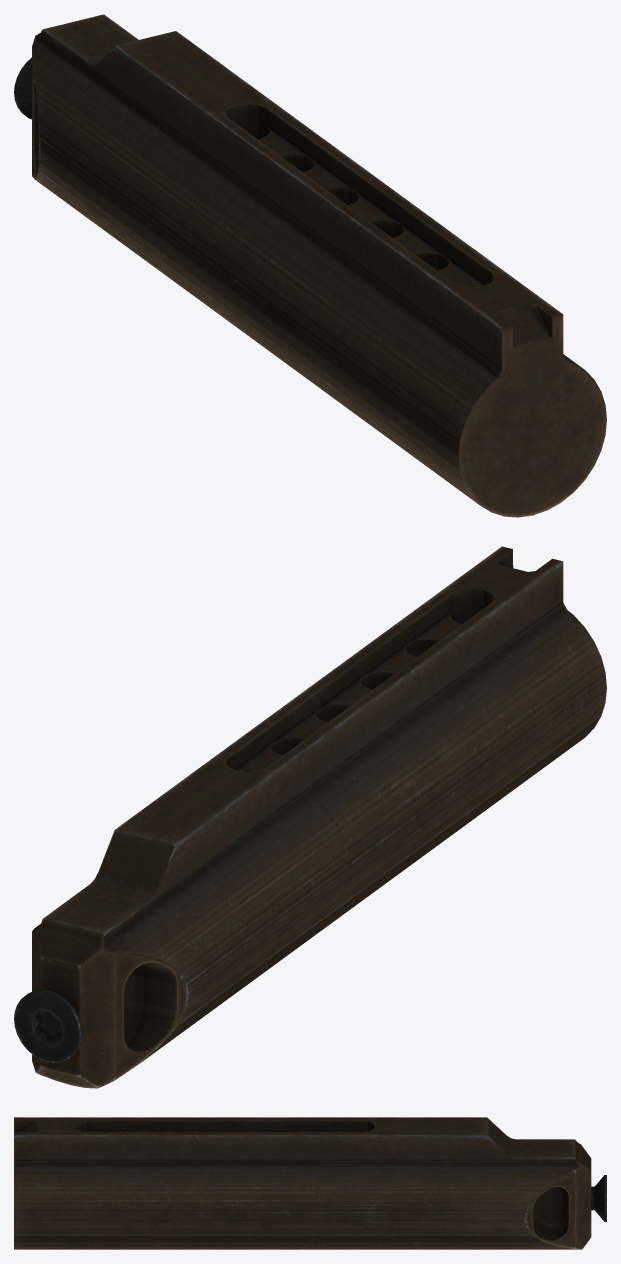
The picture shows the model from 3 angles, top to bottom: view 1: azimuth 30°, elevation 25°; view 2: azimuth 150°, elevation 25°; view 3: azimuth 270°, elevation 25°; orthographic projection. The views are drawn at different scales.
Parts seen in each view (by area): view 1: TW_6529366450dc782999054ba0_PZ_Import; view 2: TW_6529366450dc782999054ba0_PZ_Import; view 3: TW_6529366450dc782999054ba0_PZ_Import.
Boxes of the visible parts, x1,y1,x2,y2 form: TW_6529366450dc782999054ba0_PZ_Import: (14, 14, 606, 517); TW_6529366450dc782999054ba0_PZ_Import: (14, 546, 606, 1088); TW_6529366450dc782999054ba0_PZ_Import: (14, 1117, 606, 1249).
Size of the model in its own units: 0.0167 by 0.0945 by 0.0208.
Materials: 1 (1 with a texture image).
